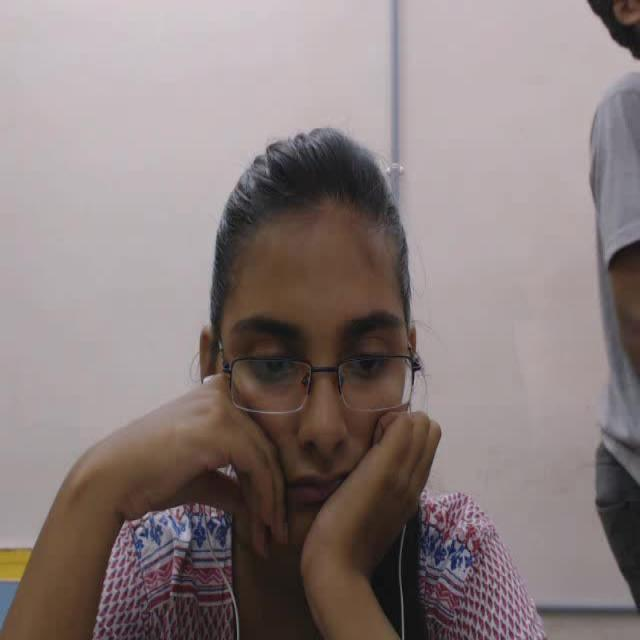Bored: (136, 84, 472, 590)
